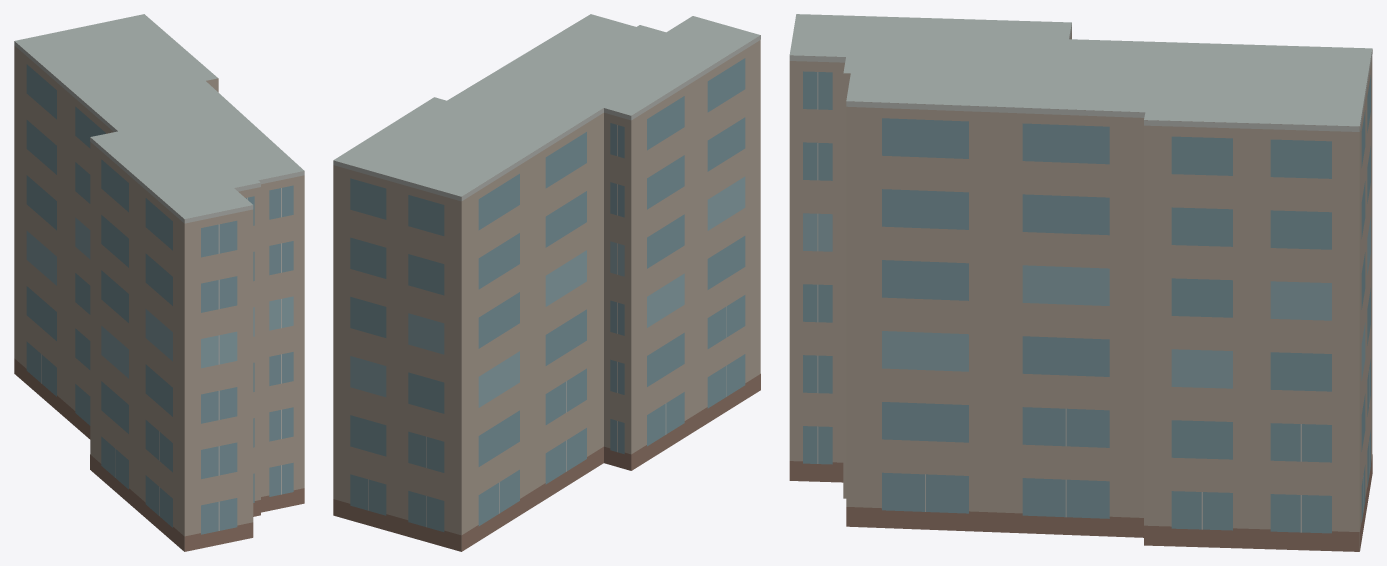
The model's file is survey-upis-32988805.glb.
The picture shows the model from 3 angles, left to right: view 1: azimuth 30°, elevation 25°; view 2: azimuth 150°, elevation 25°; view 3: azimuth 270°, elevation 25°; orthographic projection. The views are drawn at different scales.
Parts seen in each view (by area): view 1: survey-upis-32988805.tmp; view 2: survey-upis-32988805.tmp; view 3: survey-upis-32988805.tmp.
Boxes of the visible parts, x1,y1,x2,y2 form: survey-upis-32988805.tmp: [14, 14, 304, 551]; survey-upis-32988805.tmp: [333, 14, 760, 551]; survey-upis-32988805.tmp: [789, 14, 1372, 551].
Size of the model in its own units: 10.49 by 18.5 by 22.98.
